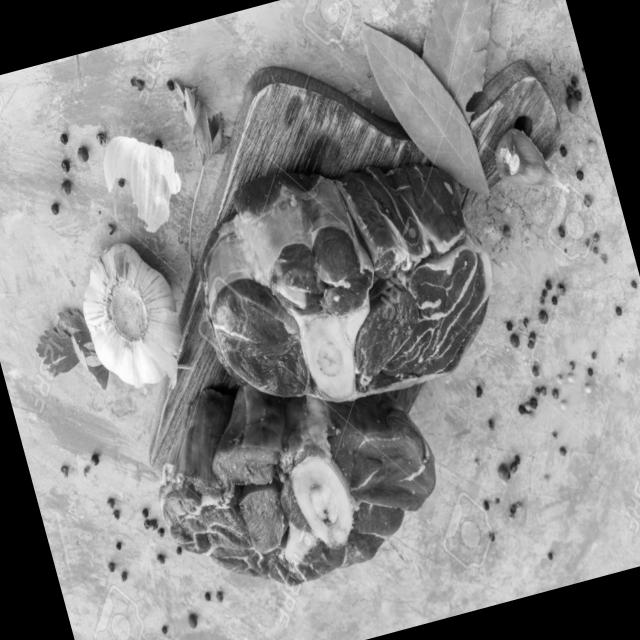chan gio: (174, 128, 515, 432), (136, 336, 454, 613)
